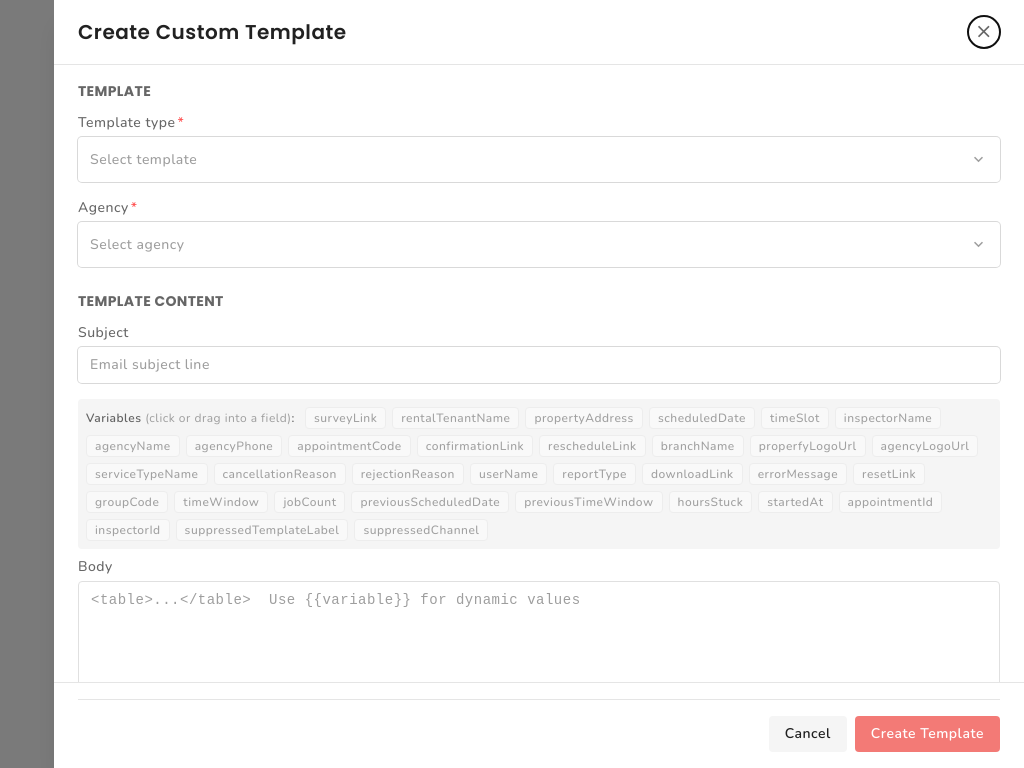
Test case: TemplateCreateDrawer › shows the derived channel (SMS) and hides the Subject field for an SMS code
Click the button with aria-label "Template type" at (144, 159), box [78,137,1000,182]
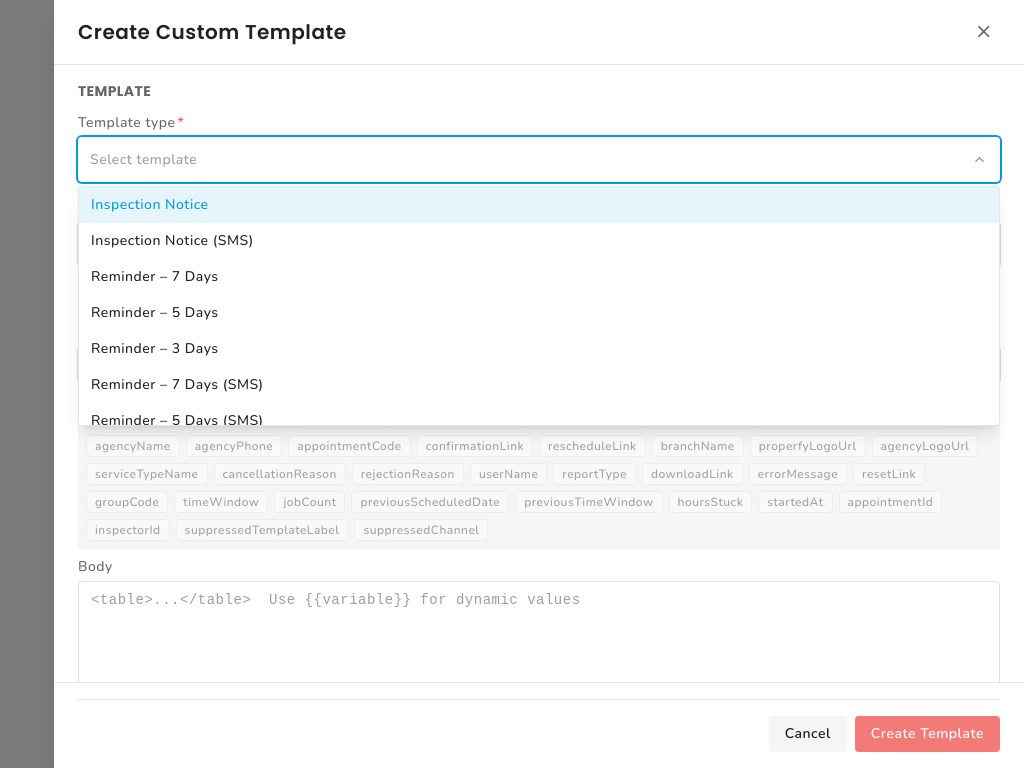
Click the option "Inspection Notice (SMS)" at (172, 240), box [91,231,254,250]
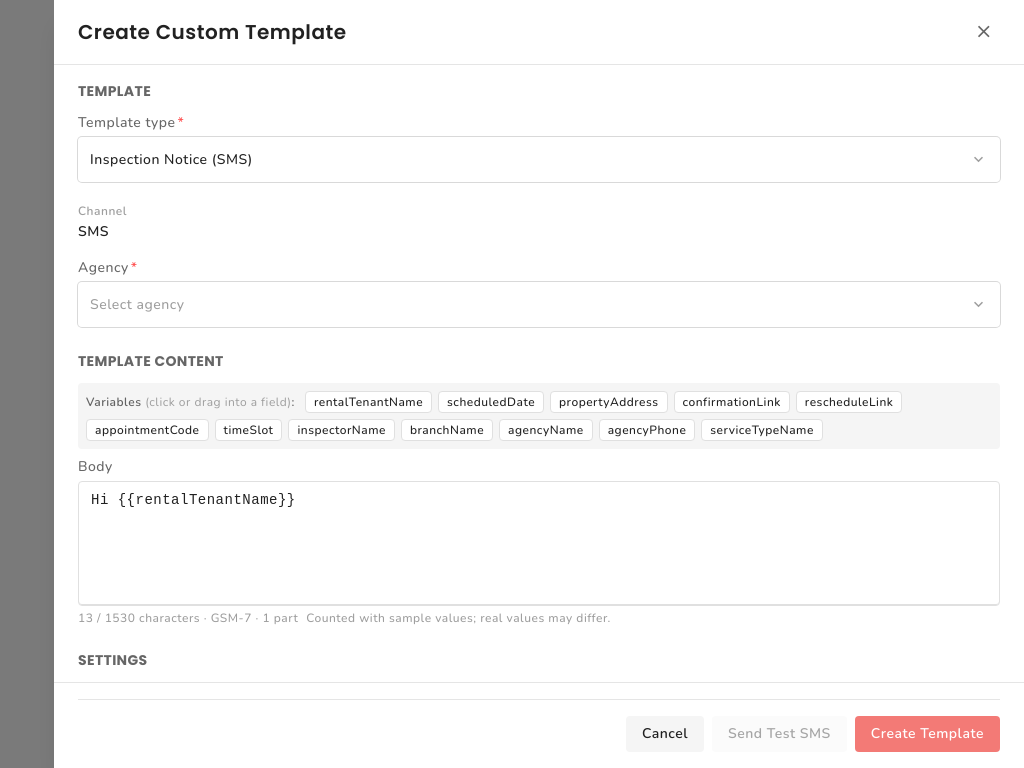
Expected: the text "SMS" is shown, [78,222,109,241]
Expected: the label labelled "Subject" is gone
